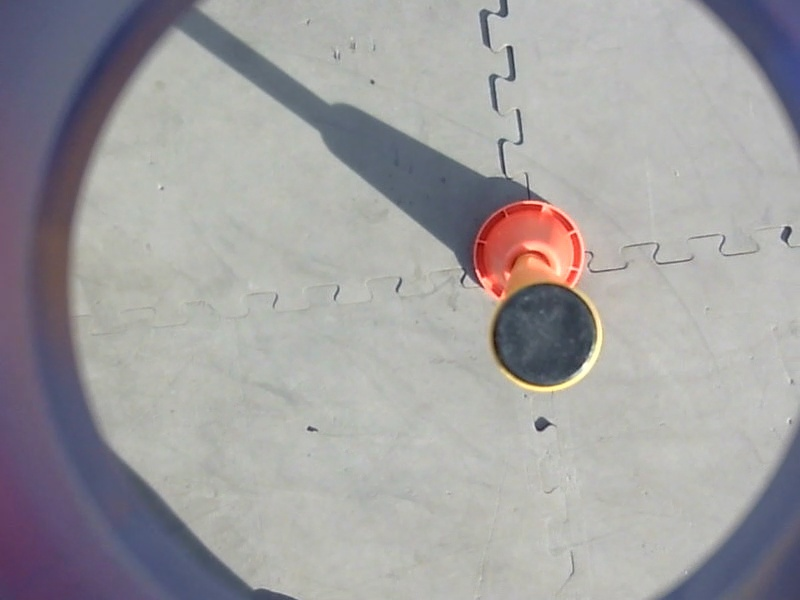tip: (487, 277, 605, 396)
